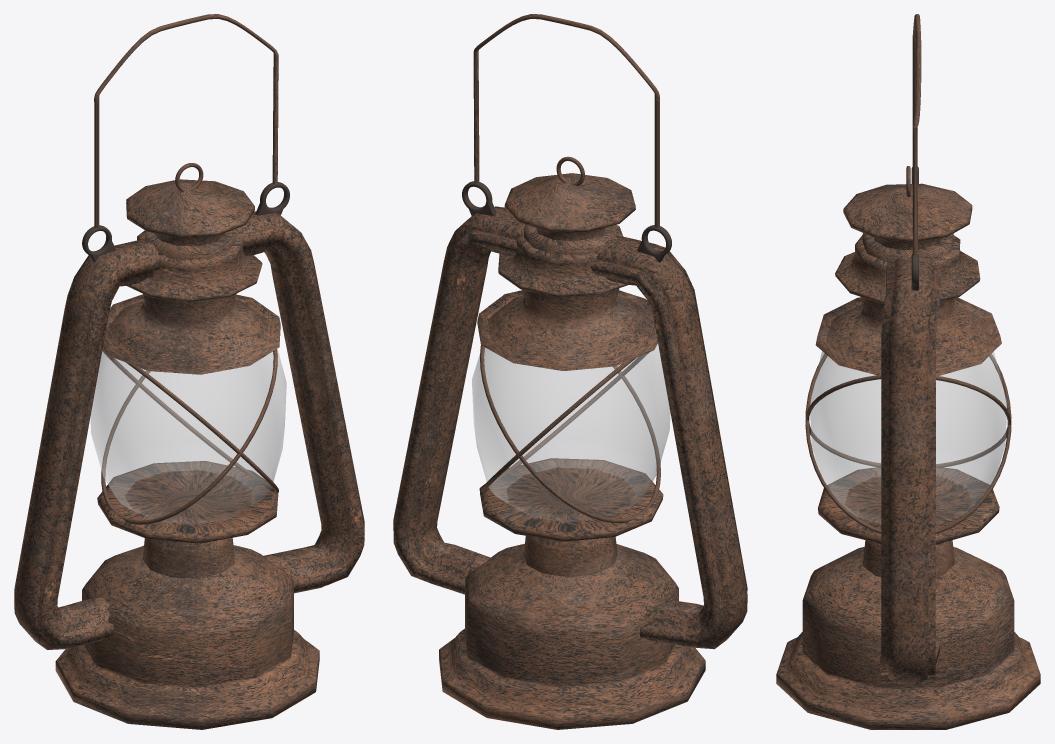
File: lampara_version5_texuras (1).fbx
3 renders of one model, left to right at view 1: azimuth 30°, elevation 25°; view 2: azimuth 150°, elevation 25°; view 3: azimuth 270°, elevation 25°, orthographic.
Parts seen in each view (by area): view 1: Cylinder, Plane, Torus, Cylinder.002, Circle; view 2: Cylinder, Plane, Torus, Cylinder.002, Circle; view 3: Cylinder, Plane, Torus, Cylinder.002.
Boxes of the visible parts, x1,y1,x2,y2 form: Cylinder: (55, 179, 319, 729); Plane: (14, 211, 364, 649); Torus: (101, 347, 278, 524); Cylinder.002: (94, 14, 278, 227); Circle: (82, 182, 289, 261); Cylinder: (439, 173, 705, 729); Plane: (393, 206, 747, 649); Torus: (480, 345, 660, 522); Cylinder.002: (473, 14, 659, 227); Circle: (462, 181, 671, 262); Cylinder: (776, 183, 1040, 729); Plane: (880, 256, 941, 684); Torus: (805, 353, 1011, 533); Cylinder.002: (912, 14, 921, 255).
Size of the model in its own units: 11.47 by 21.02 by 7.77.
Materials: 2 (1 with a texture image).
